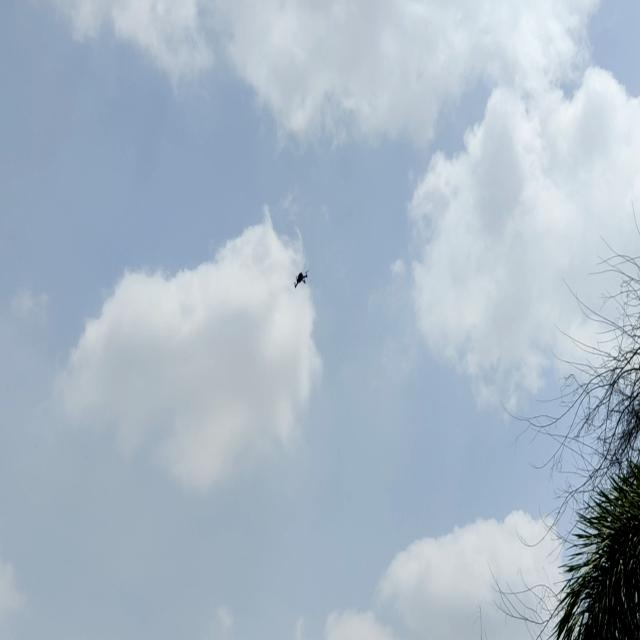drone: (284, 269, 318, 290)
